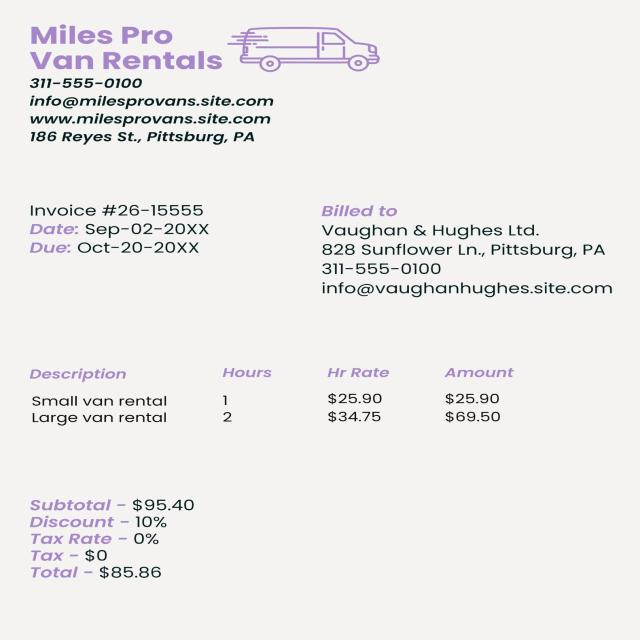paragraph: (316, 193, 620, 304), (16, 77, 278, 148), (28, 495, 200, 583), (20, 194, 226, 265), (28, 22, 230, 77)
table: (23, 365, 530, 444)
